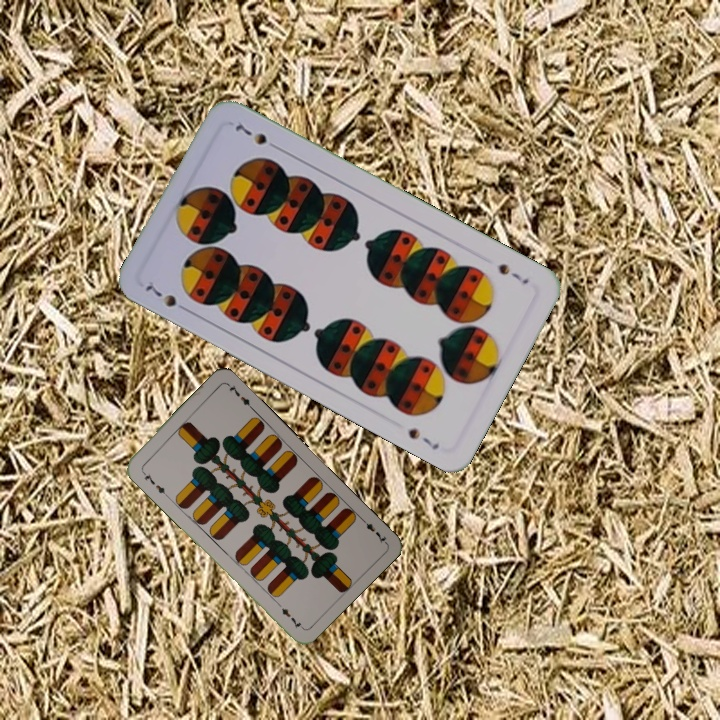E7: (357, 513, 389, 545), (138, 466, 169, 499)
S7: (141, 277, 193, 316), (494, 259, 532, 287)
